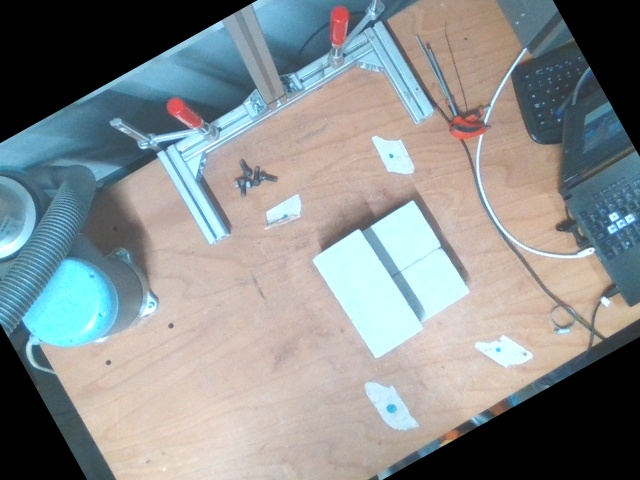brick: (313, 230, 424, 357)
